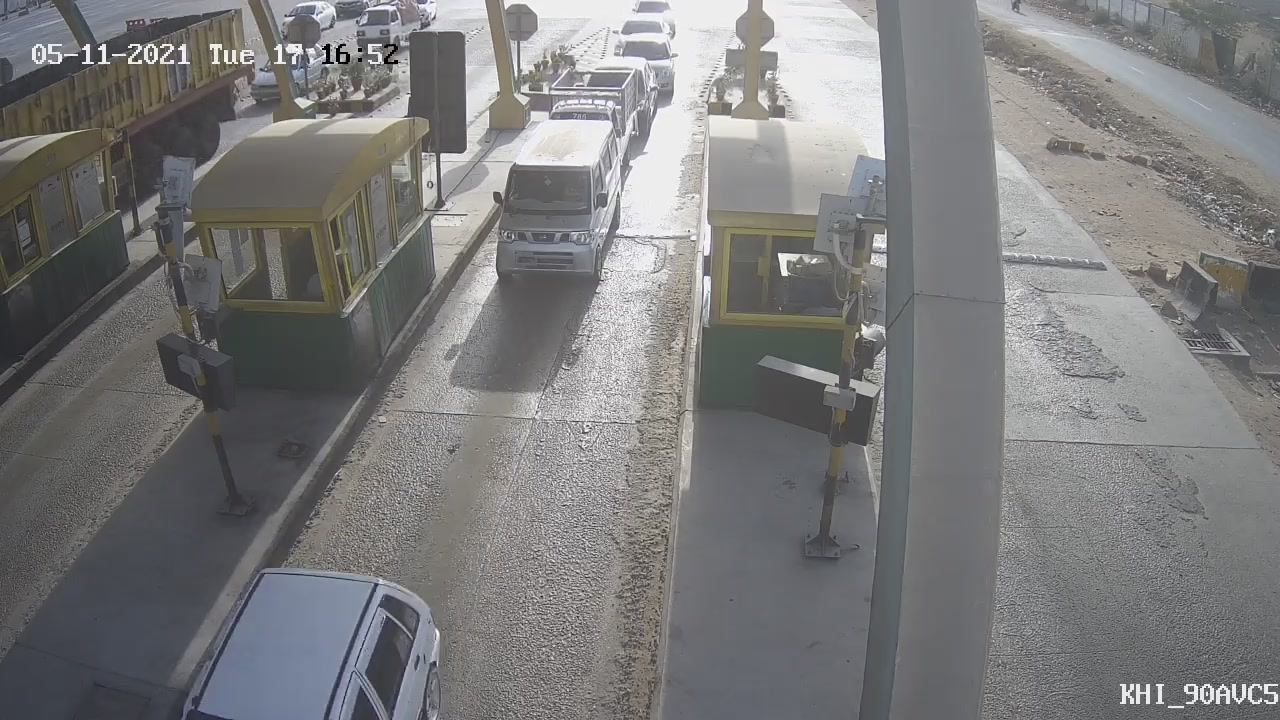F1: (478, 108, 642, 301)
